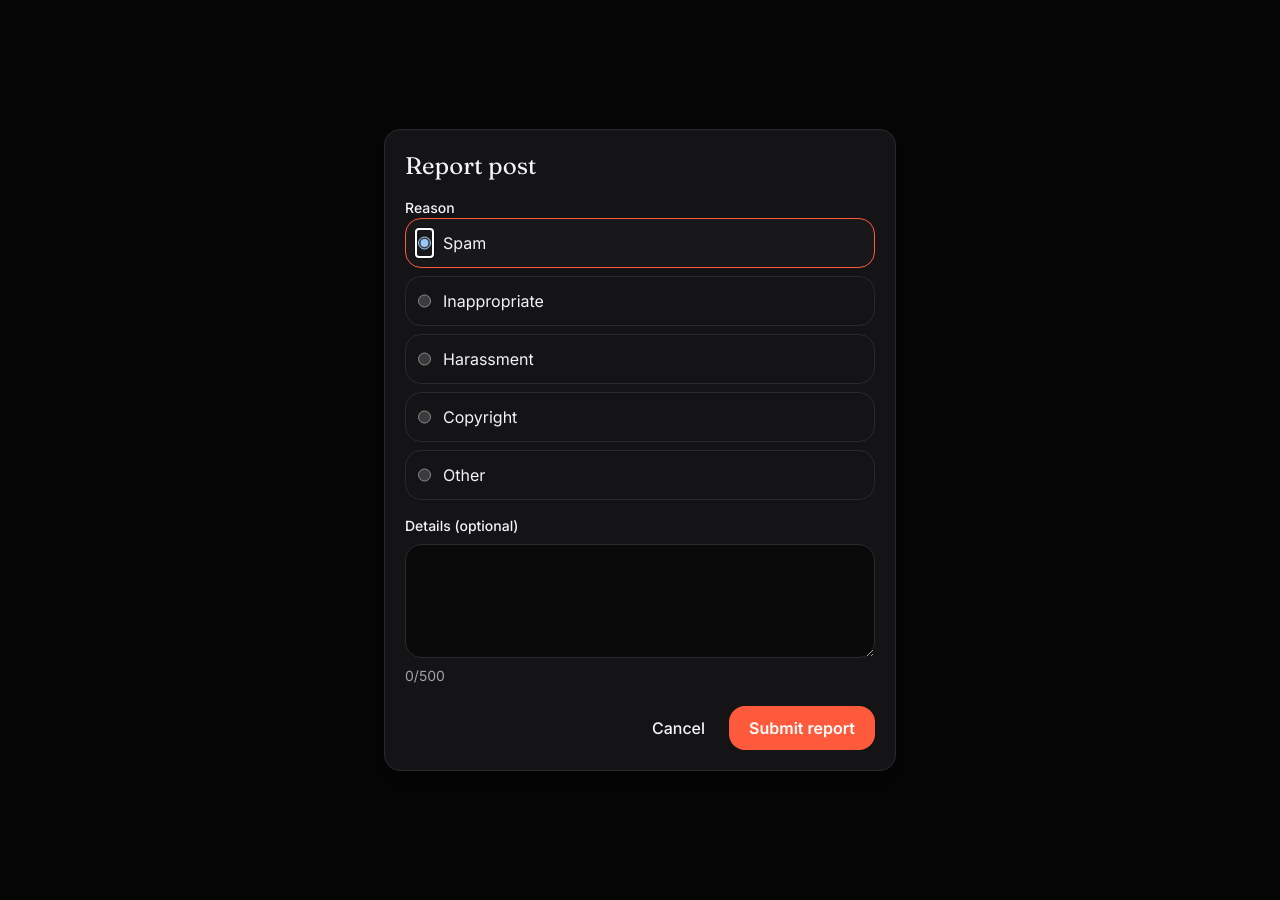
Test: ReportSheet › shows success state after submit
This screenshot has width=1280, height=900.
Click the button "Submit report" at (802, 728), box x1=729 y1=706 x2=875 y2=750
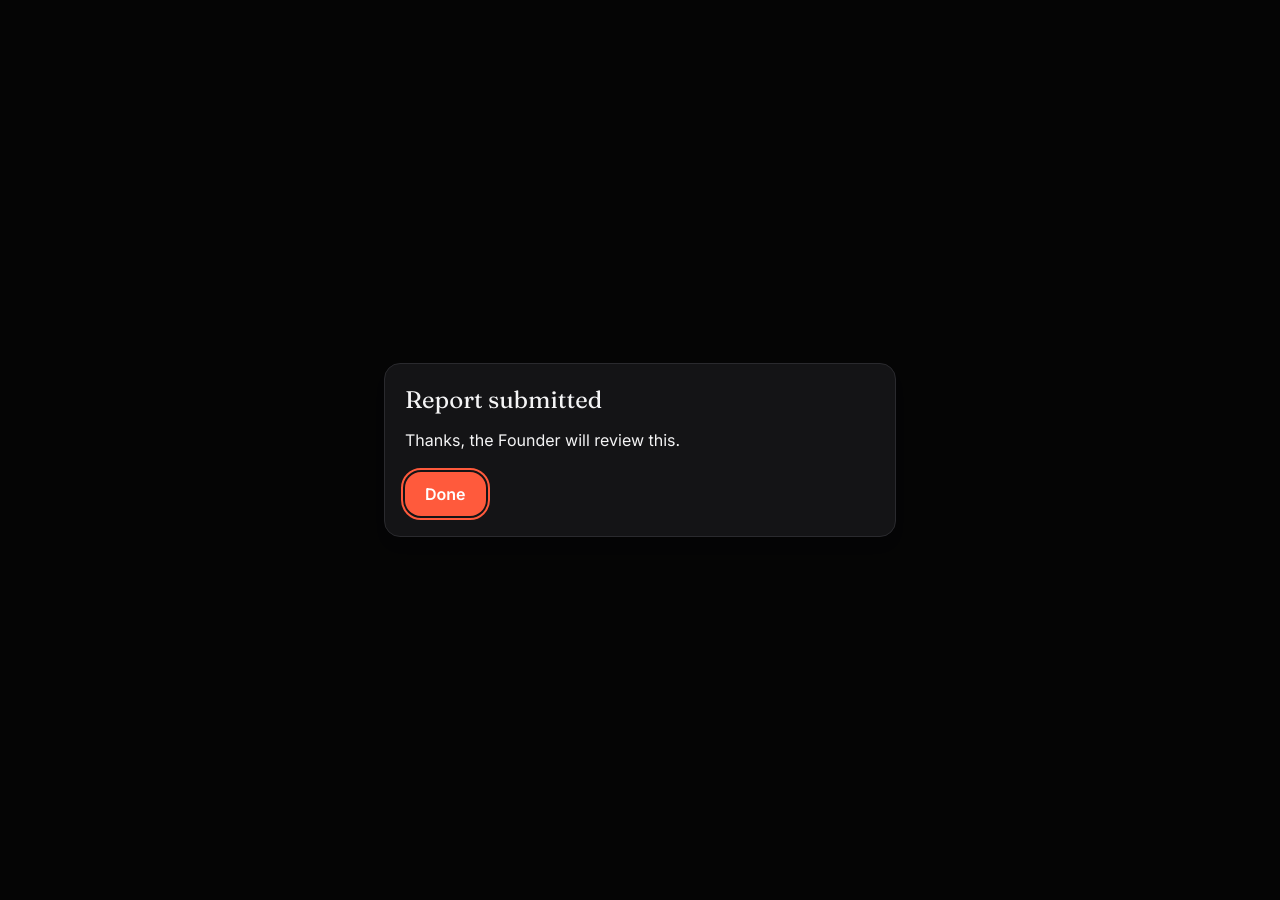
Check: the element with test id "report-sheet-success" is shown, box x1=405 y1=385 x2=680 y2=516
